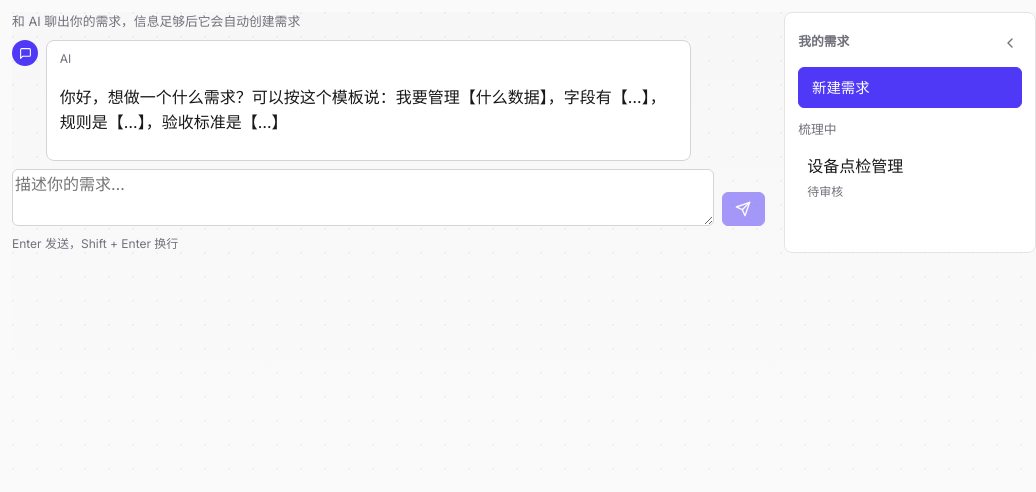
it: IssueWorkshopView 需求详情与推送（P23 语义移植） › 新建需求按钮回到工坊对话
Click the button with test id "issue-entry-i1" at {"x": 910, "y": 177}, box x1=798 y1=145 x2=1022 y2=210
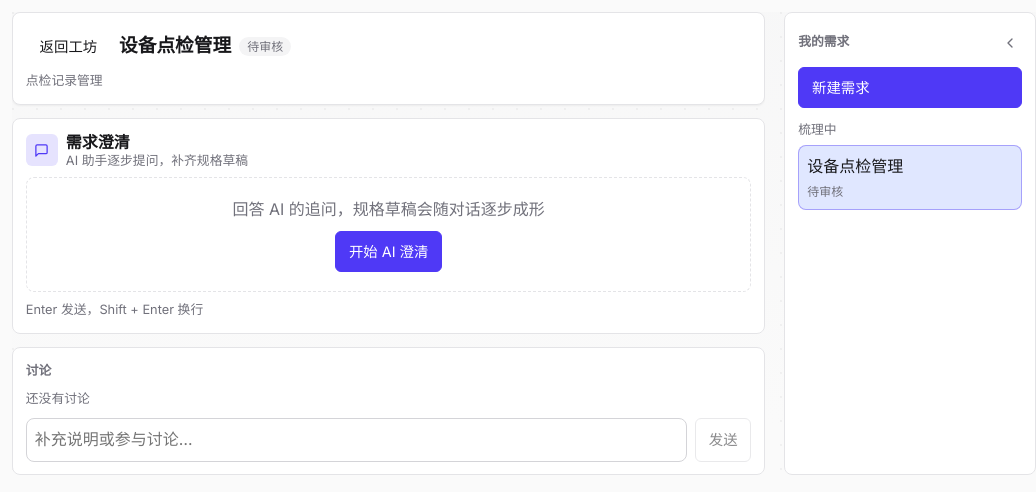
Click the button with test id "new-requirement" at {"x": 910, "y": 88}, box x1=798 y1=67 x2=1022 y2=108
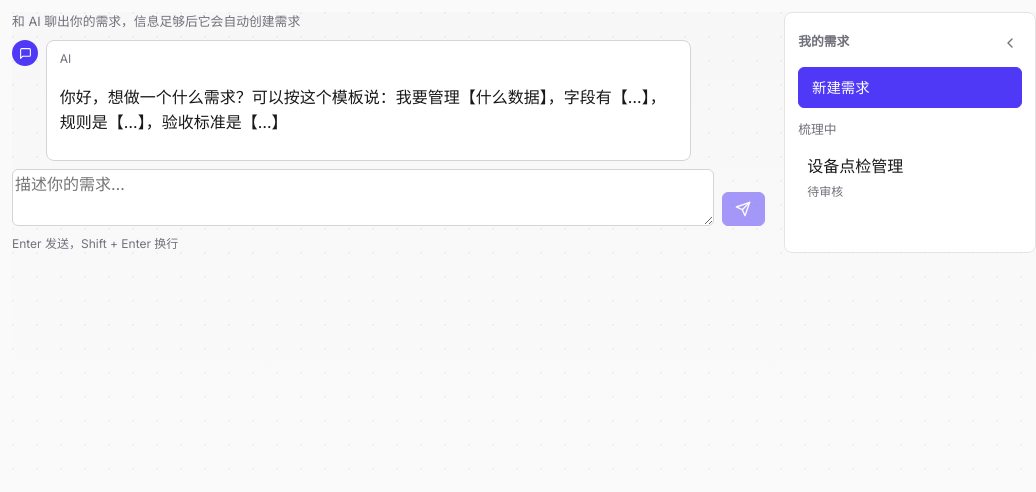
Result: the element with test id "workshop-chat" is shown at x1=12 y1=12 x2=765 y2=253
